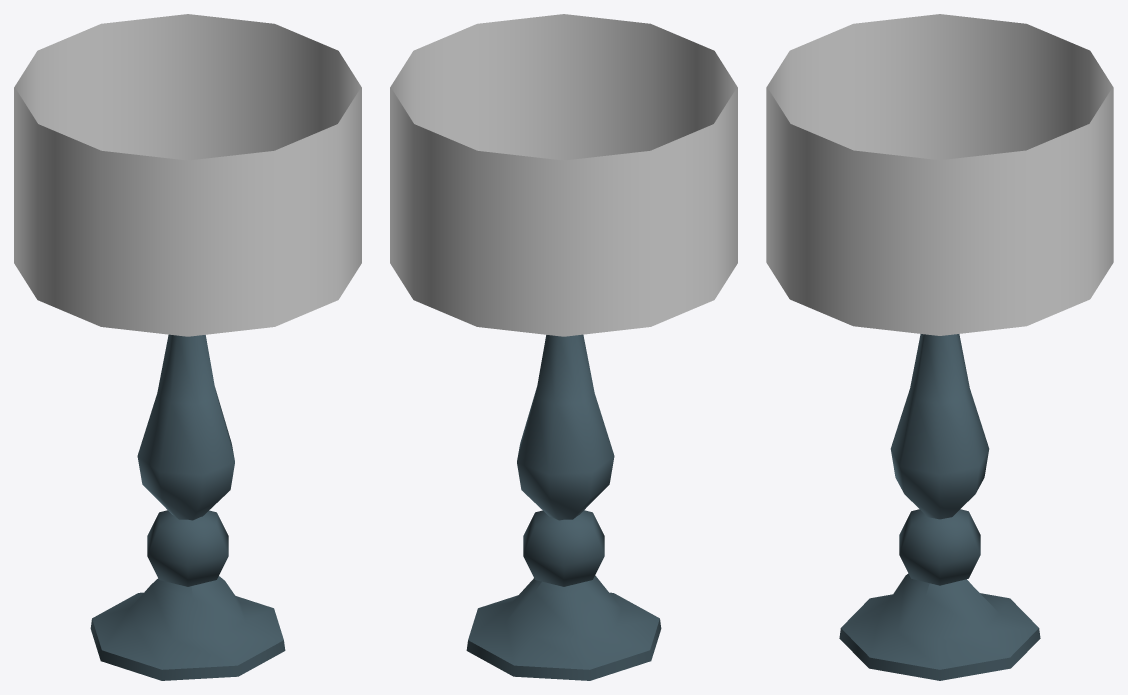
File: lamp.glb
3 views of the same model, side by side, from view 1: azimuth 30°, elevation 25°; view 2: azimuth 150°, elevation 25°; view 3: azimuth 270°, elevation 25° (orthographic).
Visible parts, largest first — view 1: lamp_022; view 2: lamp_022; view 3: lamp_022.
Boxes of the visible parts, x1=… form: lamp_022: x1=14, y1=14, x2=361, y2=680; lamp_022: x1=390, y1=14, x2=737, y2=680; lamp_022: x1=766, y1=14, x2=1113, y2=680.
Bounding box in the file's own units: 0.3947 × 0.6916 × 0.3947.
1 material, 1 textured.
